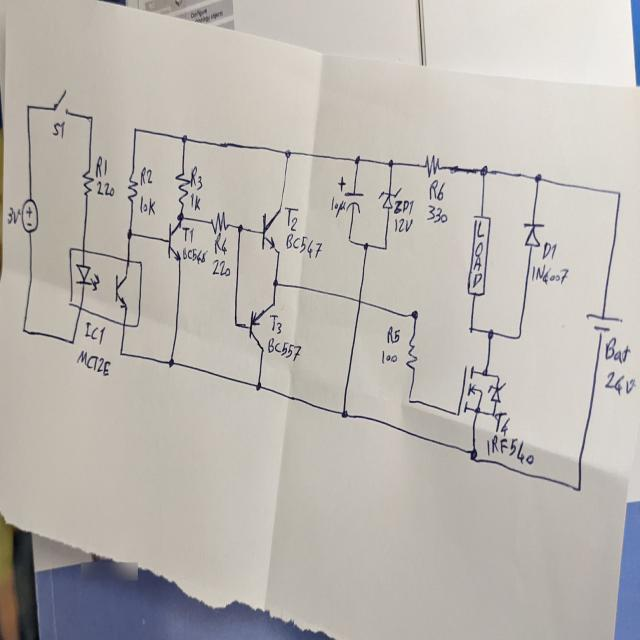capacitor: (337, 175, 364, 214)
crossover: (356, 296, 362, 306)
diode: (522, 220, 545, 249), (378, 185, 402, 212), (487, 381, 506, 404)
junction: (478, 162, 488, 178), (469, 446, 478, 461), (410, 307, 419, 321), (180, 131, 188, 146), (284, 146, 292, 160), (486, 326, 494, 339), (534, 170, 542, 183), (68, 334, 76, 347), (255, 378, 262, 392), (236, 222, 244, 234), (481, 367, 489, 378), (168, 356, 175, 368), (126, 228, 133, 240), (271, 276, 278, 288), (87, 112, 94, 124), (575, 482, 582, 494), (474, 405, 482, 415), (176, 210, 184, 220), (387, 157, 394, 168), (24, 101, 31, 112), (354, 154, 360, 166), (341, 407, 347, 419), (232, 317, 238, 329), (616, 188, 622, 199), (132, 124, 138, 135), (363, 240, 369, 251), (468, 322, 474, 333), (382, 242, 388, 252), (118, 348, 124, 358), (347, 233, 352, 244), (21, 324, 26, 334), (407, 394, 412, 404), (516, 331, 521, 340), (495, 373, 500, 380), (491, 410, 495, 418)
resistor: (466, 213, 491, 296), (174, 168, 191, 206), (406, 332, 418, 372), (210, 209, 228, 235), (125, 169, 138, 204), (423, 152, 441, 177), (81, 167, 94, 200)
source: (585, 311, 622, 334), (20, 197, 39, 234)
switch: (51, 86, 70, 120)
text: (485, 433, 534, 466), (530, 261, 568, 288), (603, 368, 637, 398), (76, 349, 110, 378), (266, 335, 302, 362), (285, 232, 322, 258), (471, 219, 484, 288), (604, 336, 631, 365), (84, 318, 105, 346), (182, 245, 208, 266), (428, 177, 446, 202), (283, 204, 299, 232), (493, 410, 510, 436), (426, 203, 447, 224), (211, 257, 231, 278), (392, 194, 414, 213), (330, 195, 346, 218), (140, 194, 156, 216), (386, 324, 401, 347), (190, 164, 202, 192), (541, 240, 557, 261), (214, 232, 228, 256), (51, 118, 66, 140), (392, 218, 414, 233), (96, 179, 114, 197), (268, 311, 282, 334), (95, 155, 108, 179), (6, 204, 20, 226), (382, 346, 399, 364), (139, 165, 153, 186), (189, 191, 201, 211), (182, 224, 194, 243)
transistor: (454, 363, 484, 417), (248, 300, 275, 351), (260, 204, 282, 254), (165, 217, 182, 264)
